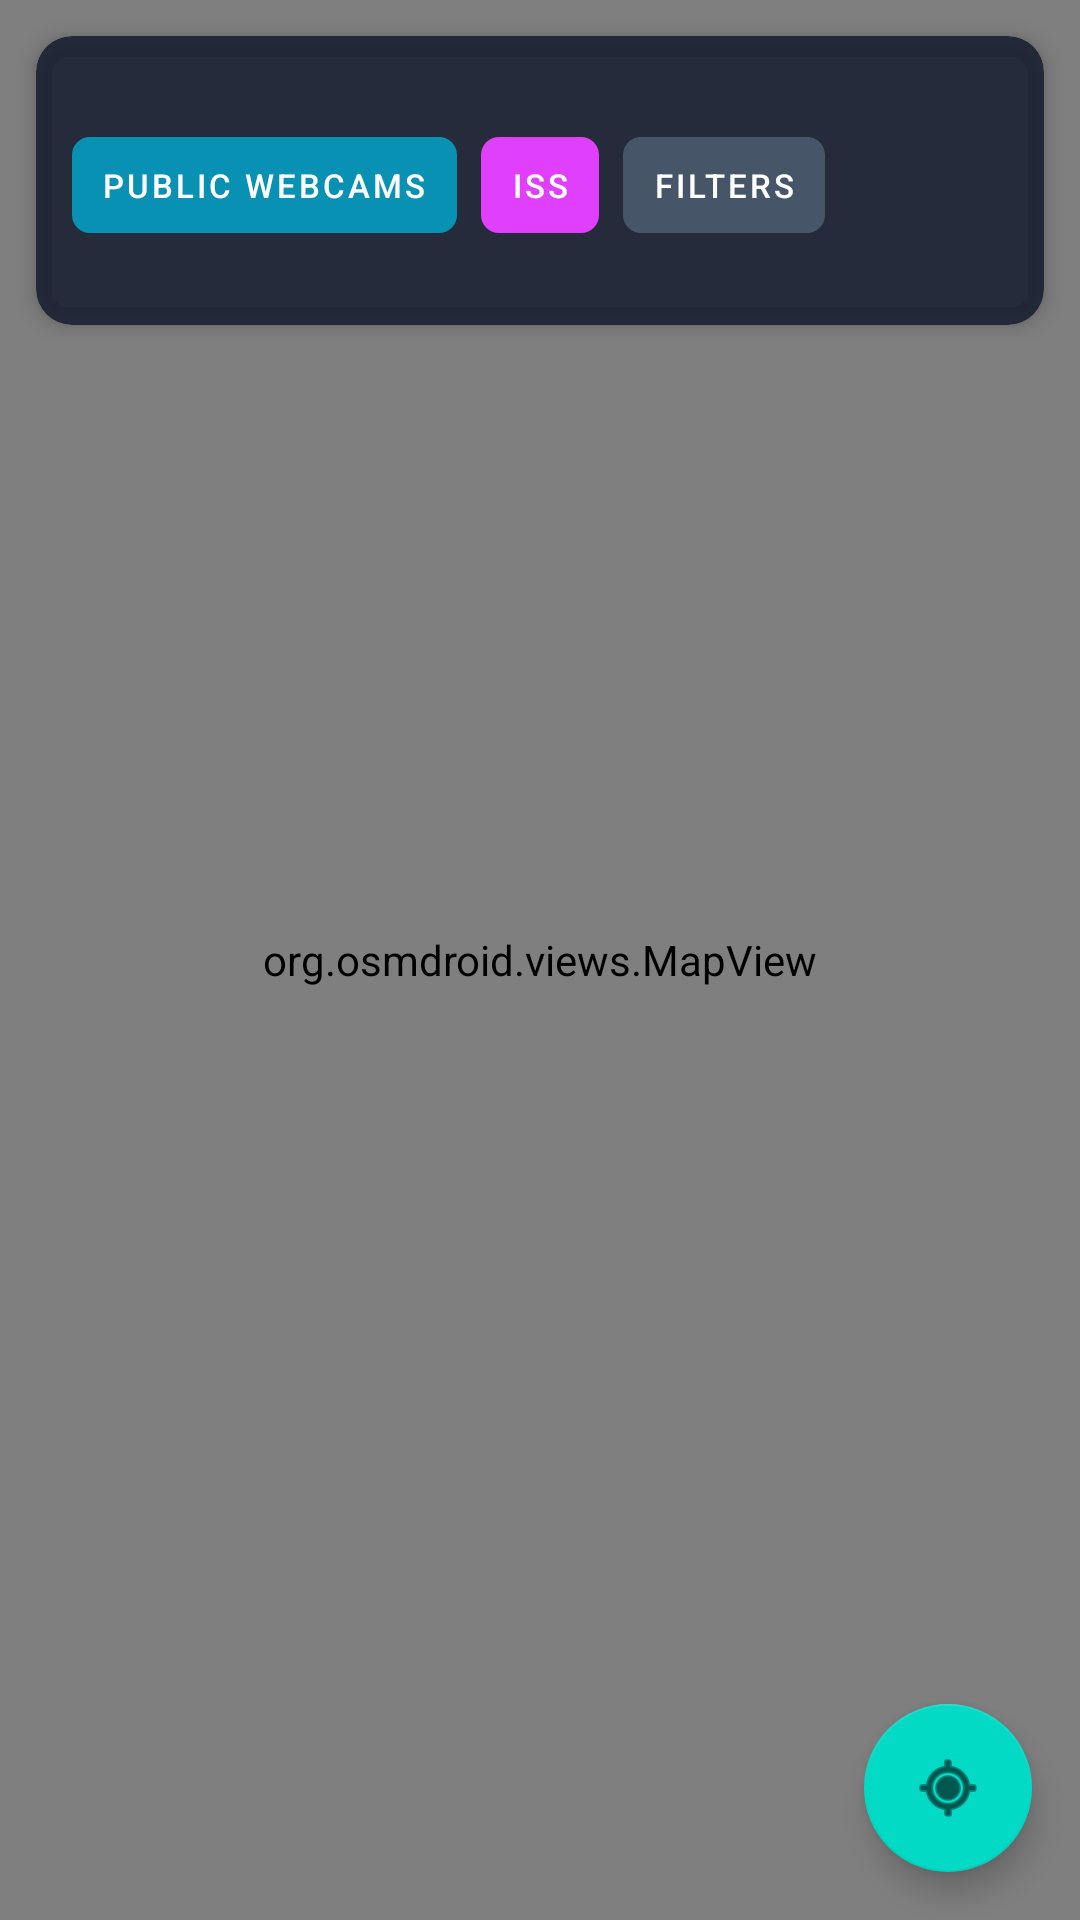

Screen size 1080x1920. Icon name, then its box in pixels as (x1, y1, x2, y2):
Locate Me: (864, 1704, 1032, 1872)
